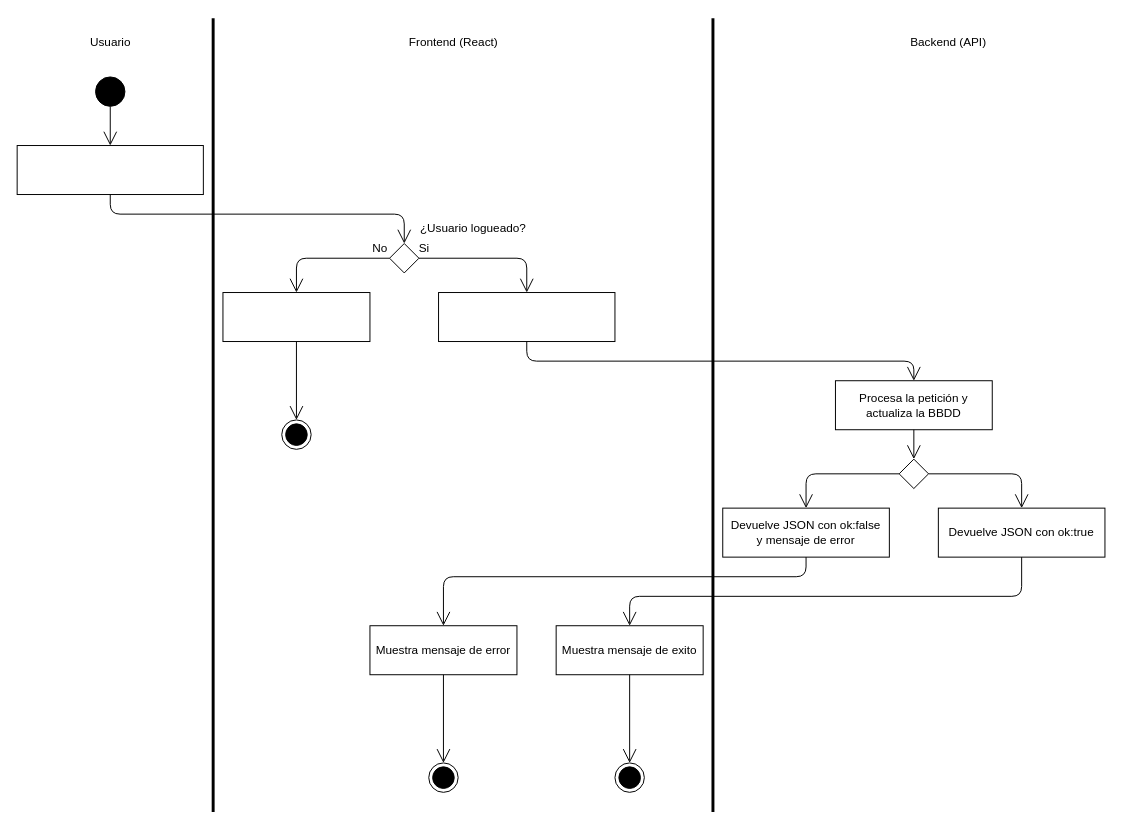
Image size: 1122x831. Some labels were removed from this diagram. The shapes that lost their labels are listed below. From the top down, each one's box as (x1, y1, x2, y2) in pixels, then its label:
(16, 145, 203, 195): Pulsa boton de estado (Whislist, Jugando, Completado)
(222, 292, 370, 342): Muestra mensaje de error: "Debes estar logueado"
(438, 292, 615, 342): Inicia petición POST a "api/usuarios/{user.id}/juegos"
